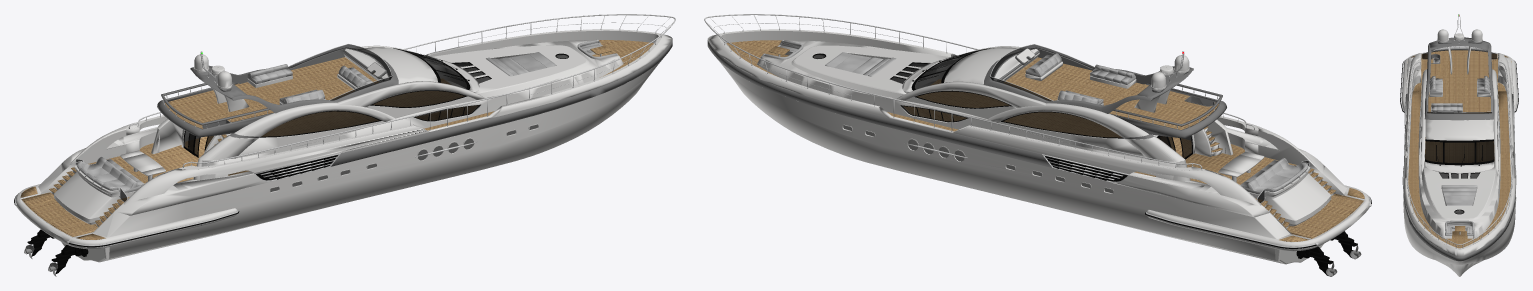
File: vehicle-yacht-001.glb
The picture shows the model from 3 angles, left to right: view 1: azimuth 30°, elevation 25°; view 2: azimuth 150°, elevation 25°; view 3: azimuth 270°, elevation 25°; orthographic projection. The views are drawn at different scales.
Parts seen in each view (by area): view 1: SM_Superyacht_110m, SM_Superyacht_Glass; view 2: SM_Superyacht_110m, SM_Superyacht_Glass; view 3: SM_Superyacht_110m, SM_Superyacht_Glass, SM_platform_door.
Boxes of the visible parts, <box> form: SM_Superyacht_110m: <box>14,14,675,273</box>; SM_Superyacht_Glass: <box>184,44,567,191</box>; SM_Superyacht_110m: <box>704,14,1371,275</box>; SM_Superyacht_Glass: <box>813,44,1192,193</box>; SM_Superyacht_110m: <box>1400,14,1518,276</box>; SM_Superyacht_Glass: <box>1421,105,1494,213</box>; SM_platform_door: <box>1422,52,1497,59</box>.
Bounding box in the file's own units: 120 × 31.86 × 26.38.
Materials: 12 (2 with a texture image).
